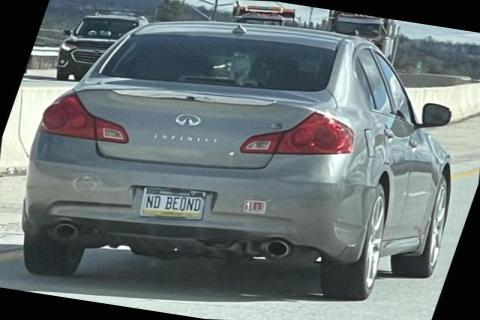LicensePlate: (137, 185, 204, 221)
